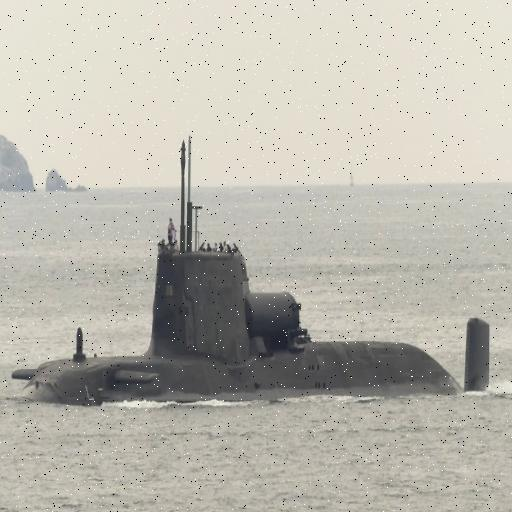submarine: (12, 252, 492, 402)
